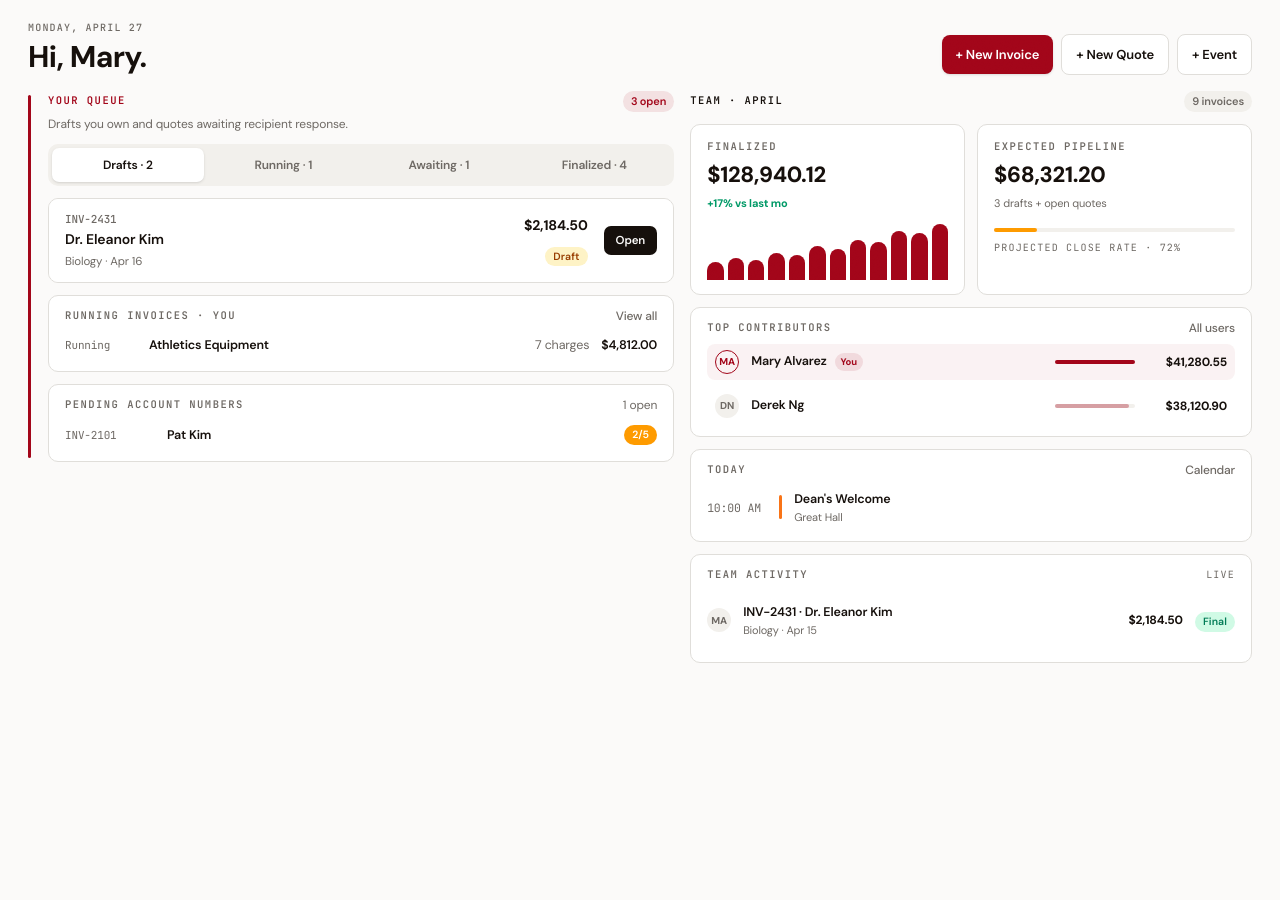
Scenario: DashboardOperatorView › switches the queue list when the awaiting tab is selected
The width and height of the screenshot is (1280, 900).
Expected: the text "Dr. Eleanor Kim" is shown, [65,230,164,248]
Click the button "Awaiting · 1": x=439, y=164 [363,148,515,182]
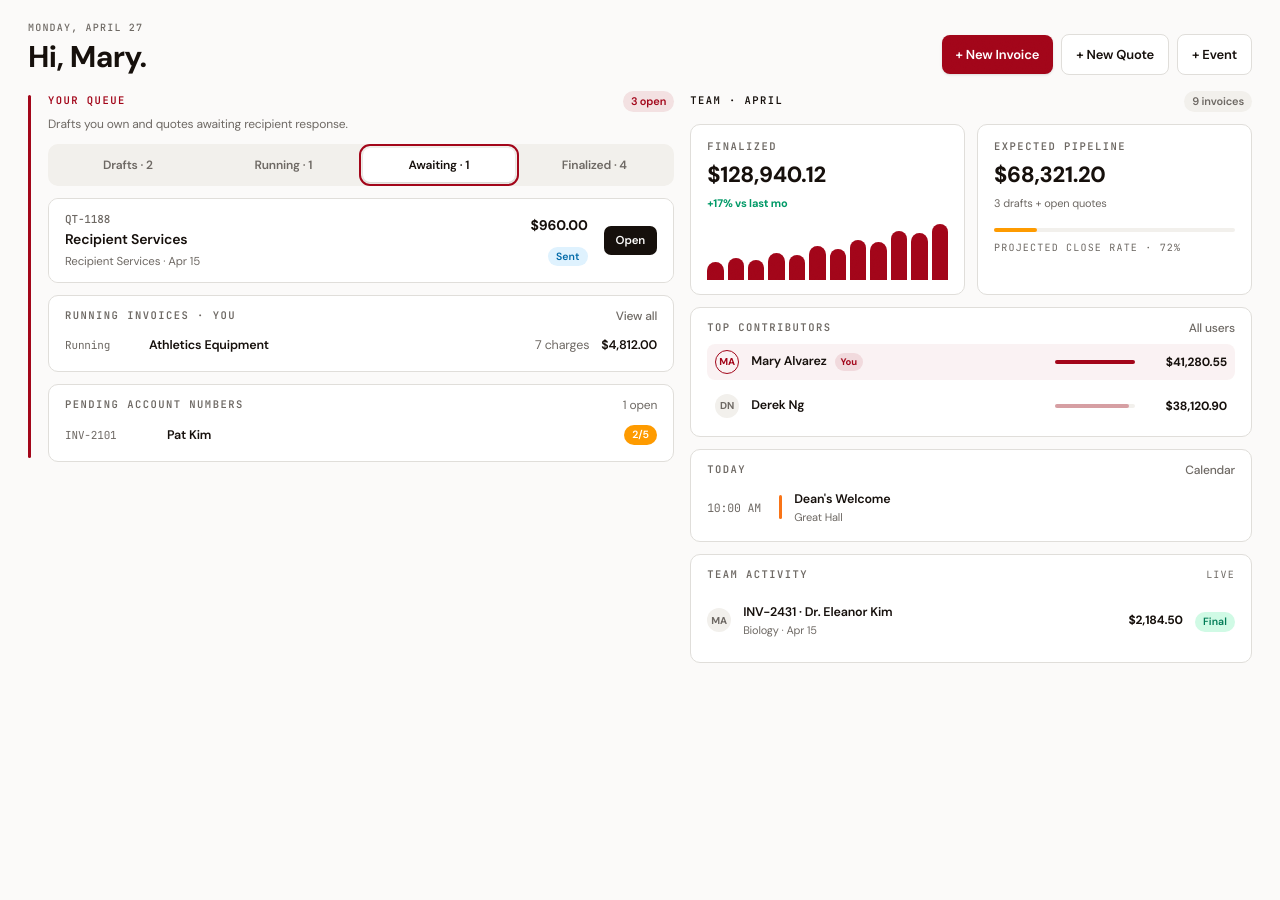
Result: the text "Recipient Services" is shown at [65,230,188,248]
Result: the text "QT-1188" is shown at [65,212,110,226]
